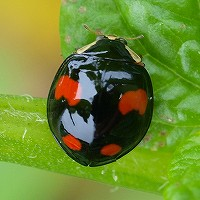Two_spots_mutant: (46, 23, 154, 167)
